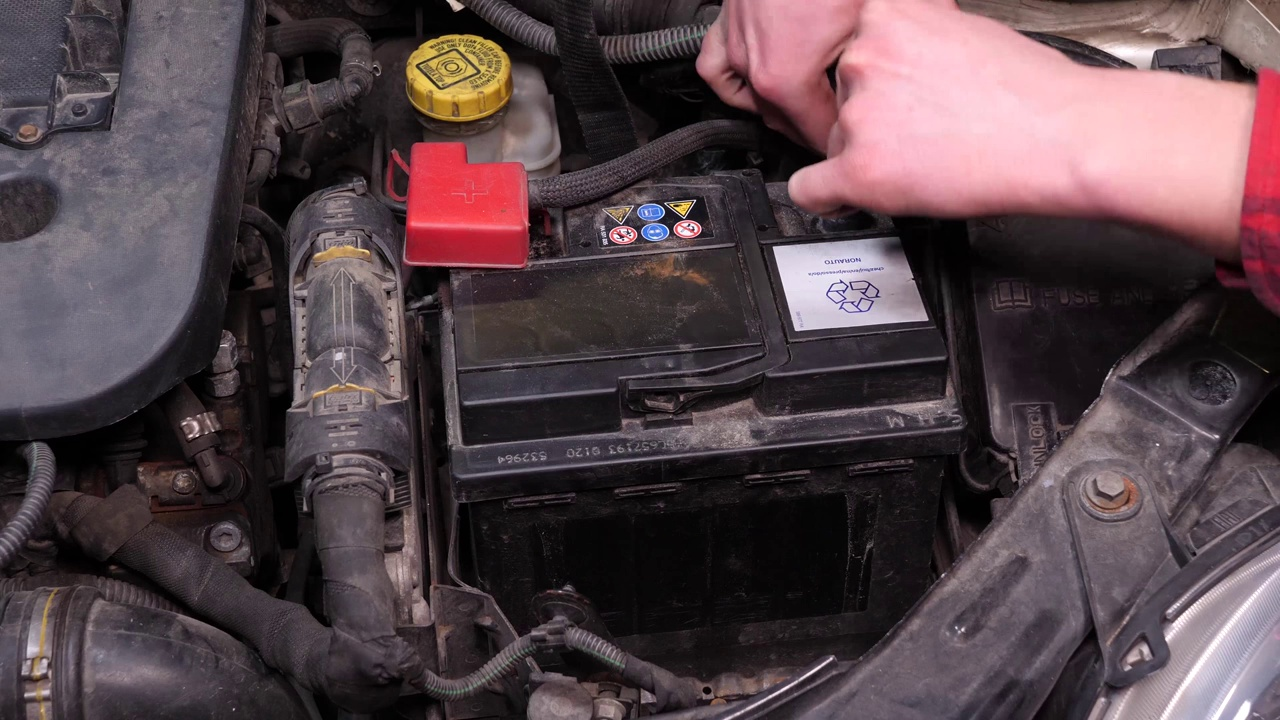battery: (388, 131, 954, 393)
pos_connected: (365, 114, 558, 293)
